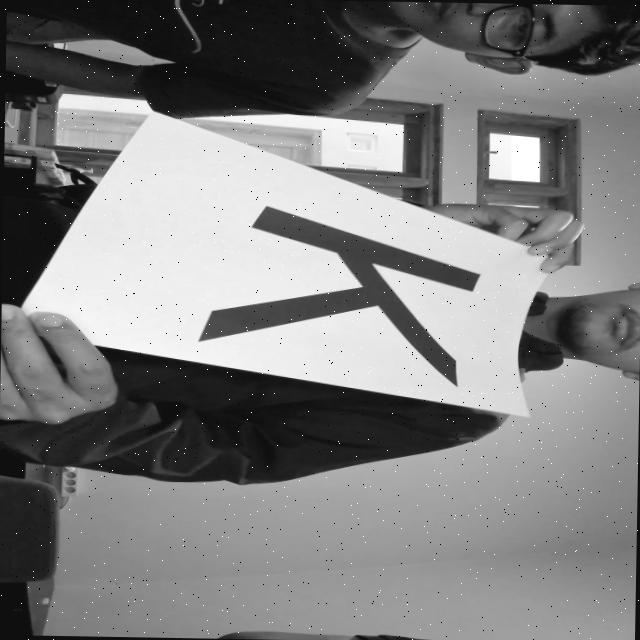k: (181, 189, 504, 377)
